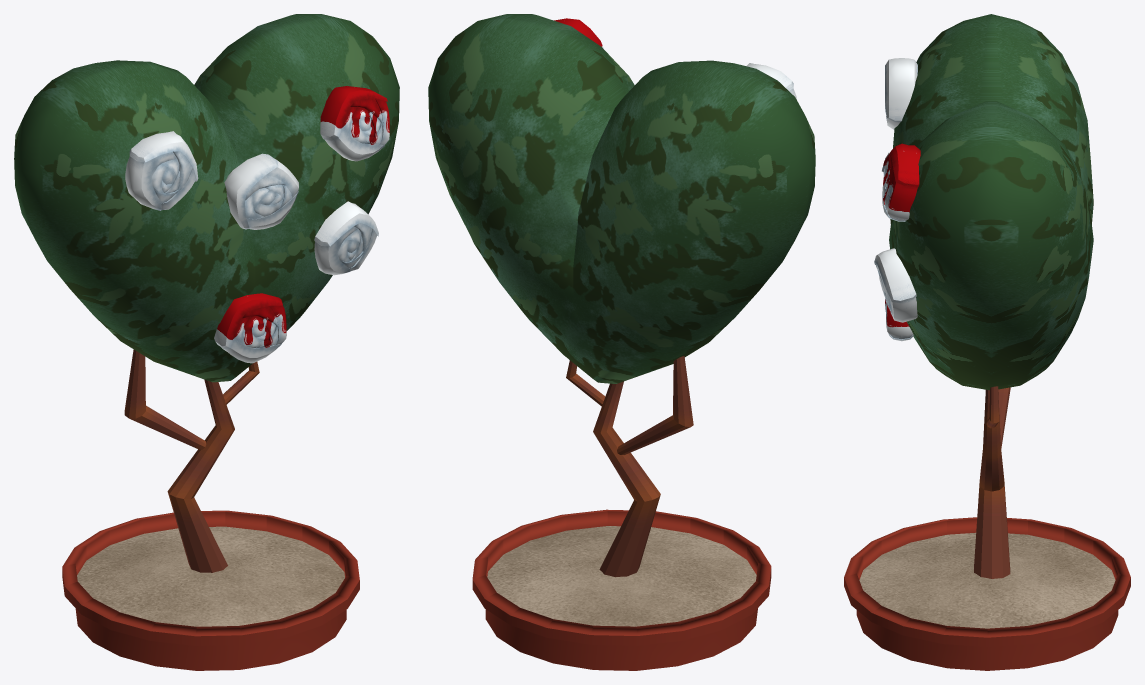
The model's file is AliceObjCool.fbx.
3 renders of one model, left to right at view 1: azimuth 30°, elevation 25°; view 2: azimuth 150°, elevation 25°; view 3: azimuth 270°, elevation 25°, orthographic. The views are drawn at different scales.
Visible parts, largest first — view 1: polySurface563; view 2: polySurface563; view 3: polySurface563.
Boxes of the visible parts, box(x1,y1,x2,y2) form: polySurface563: box(14, 14, 399, 670); polySurface563: box(428, 14, 815, 670); polySurface563: box(844, 14, 1130, 670).
Bounding box in the file's own units: 1.22 × 0.8488 × 1.78.
6 materials, 6 textured.
